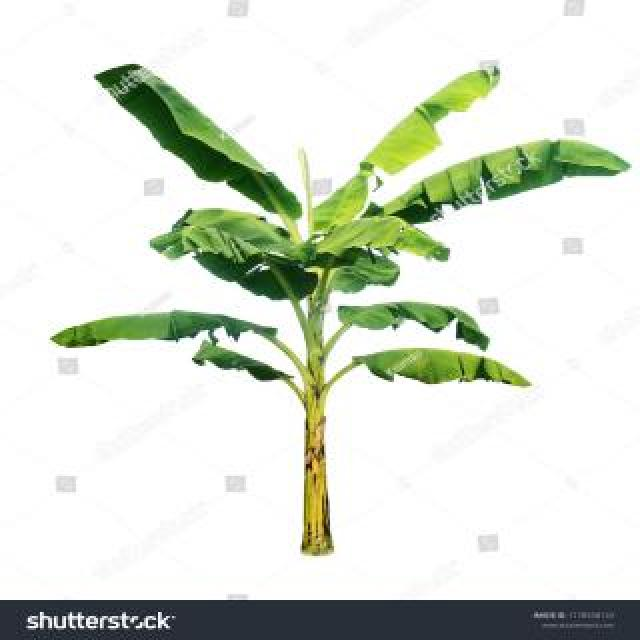Pisang: (54, 37, 621, 555)
